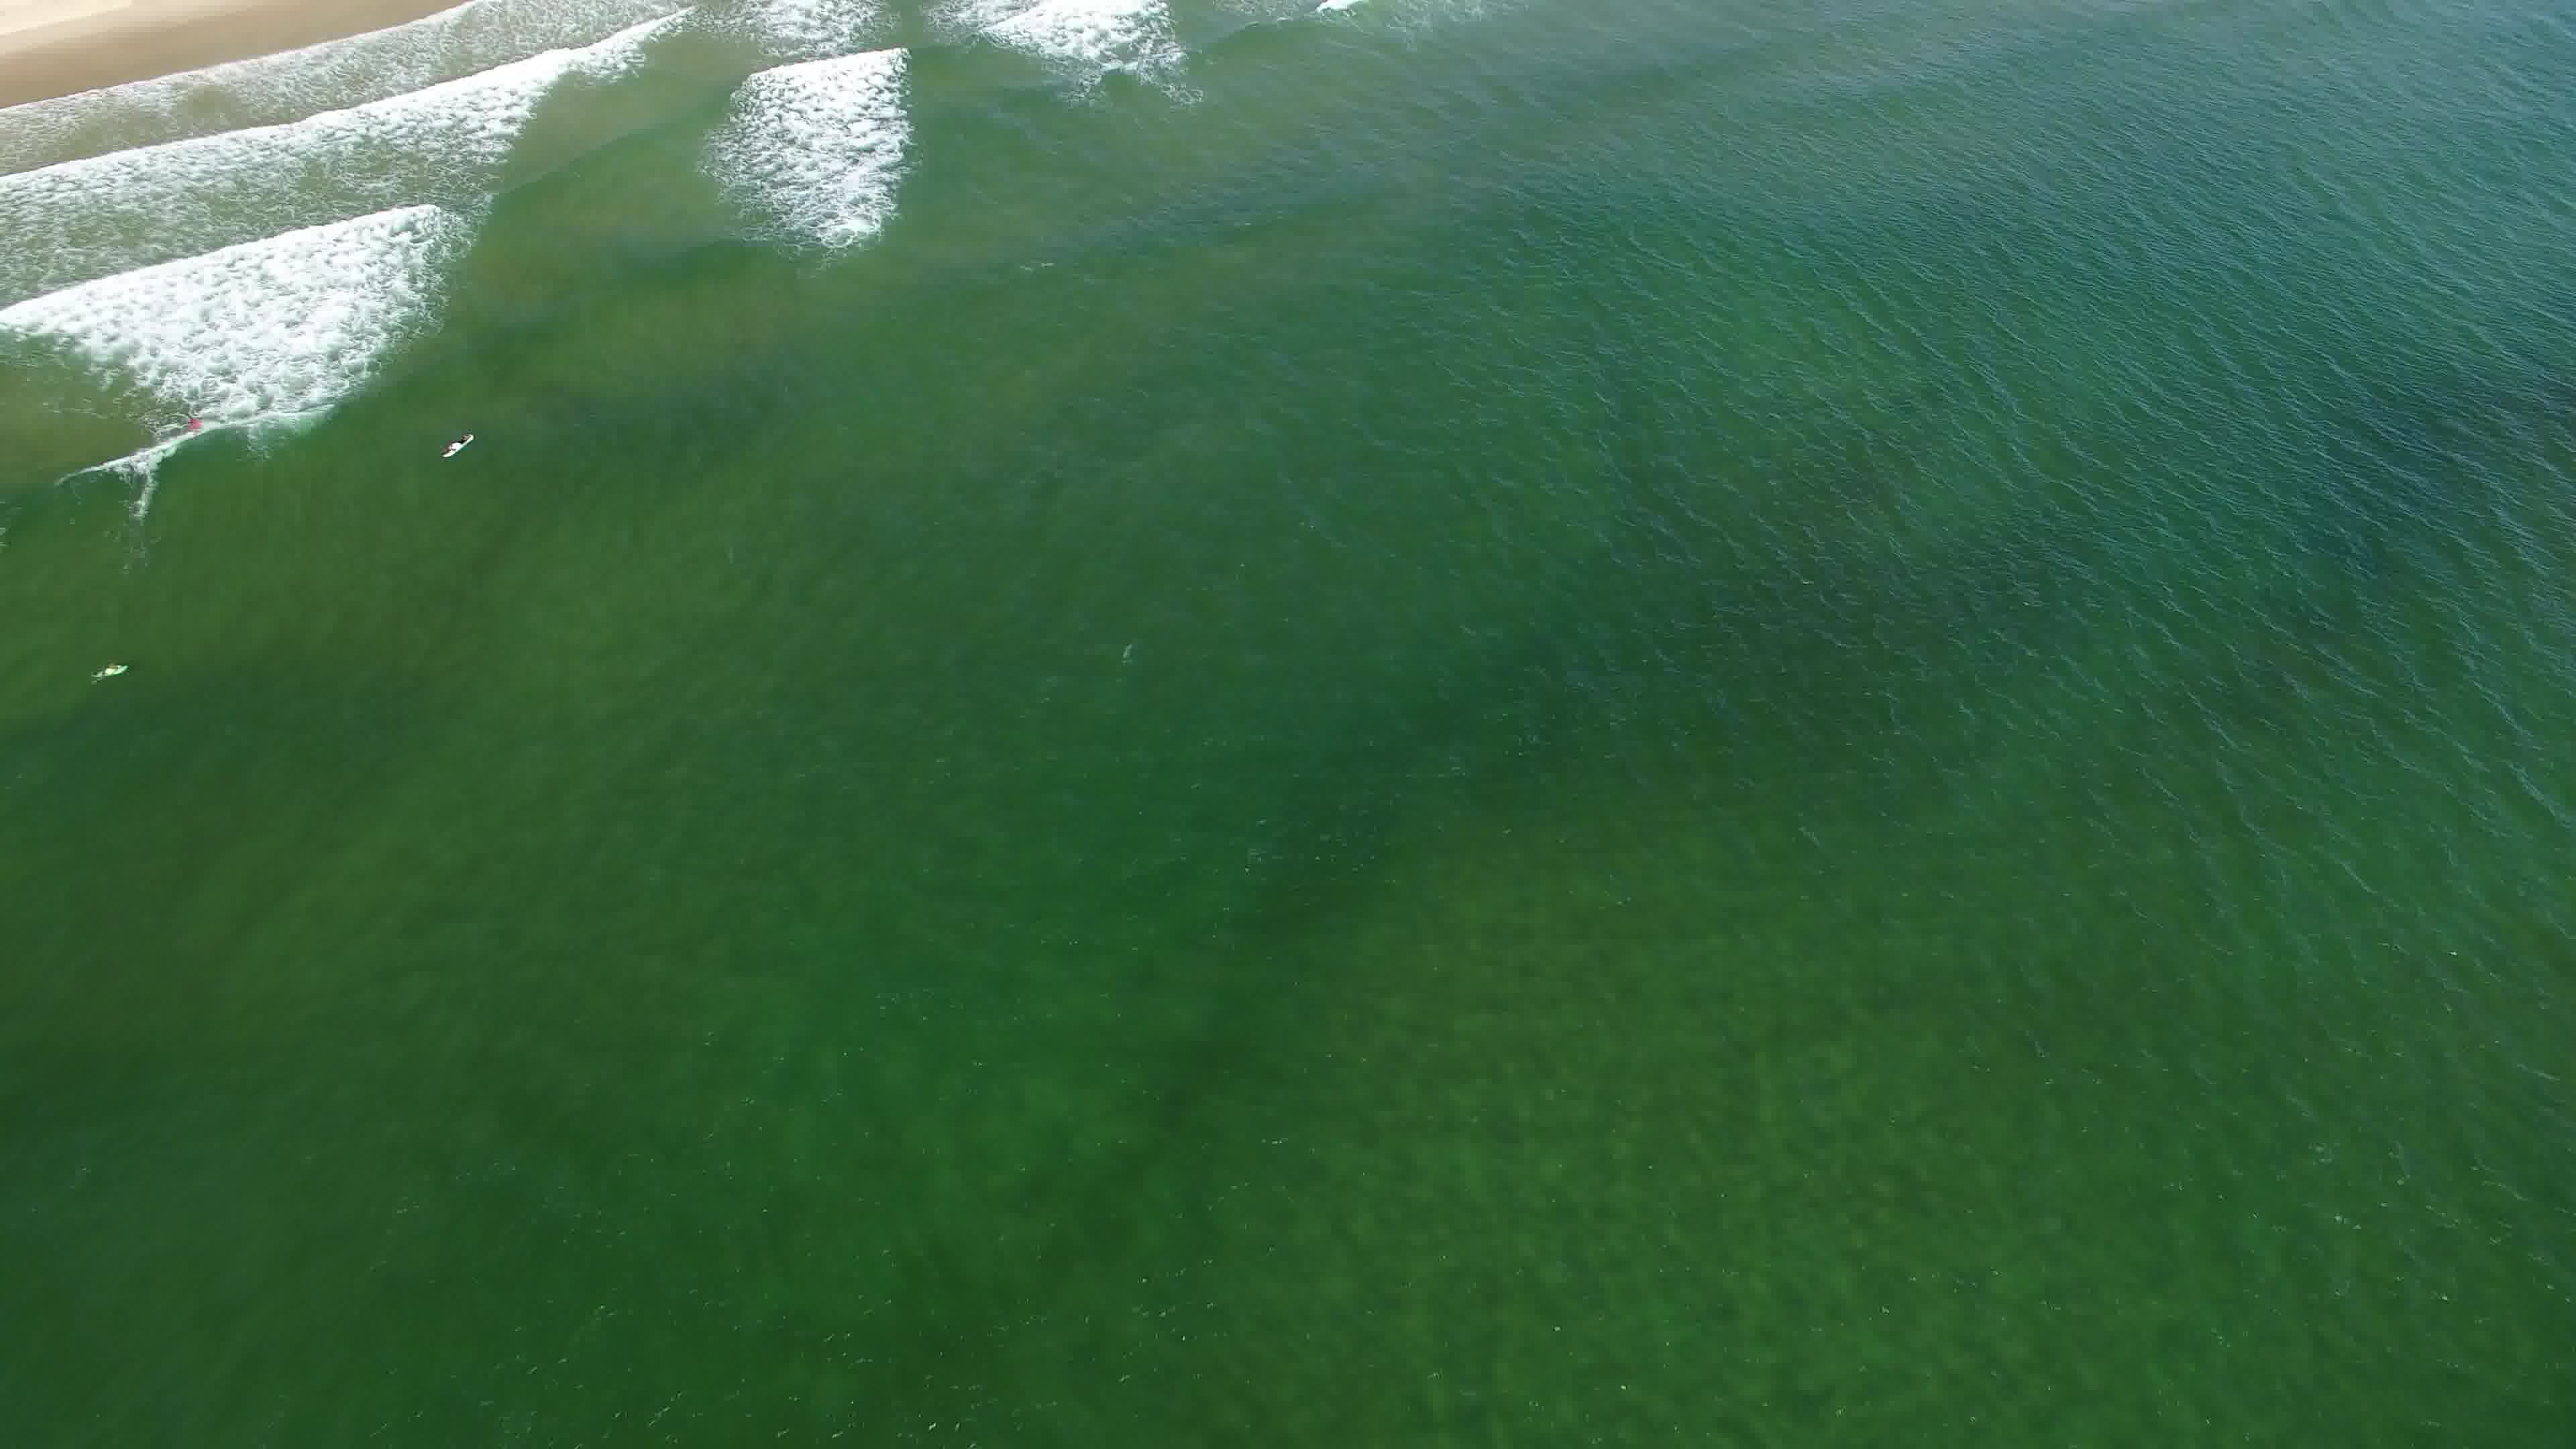surfer: (92, 642, 138, 694), (435, 425, 483, 464)
